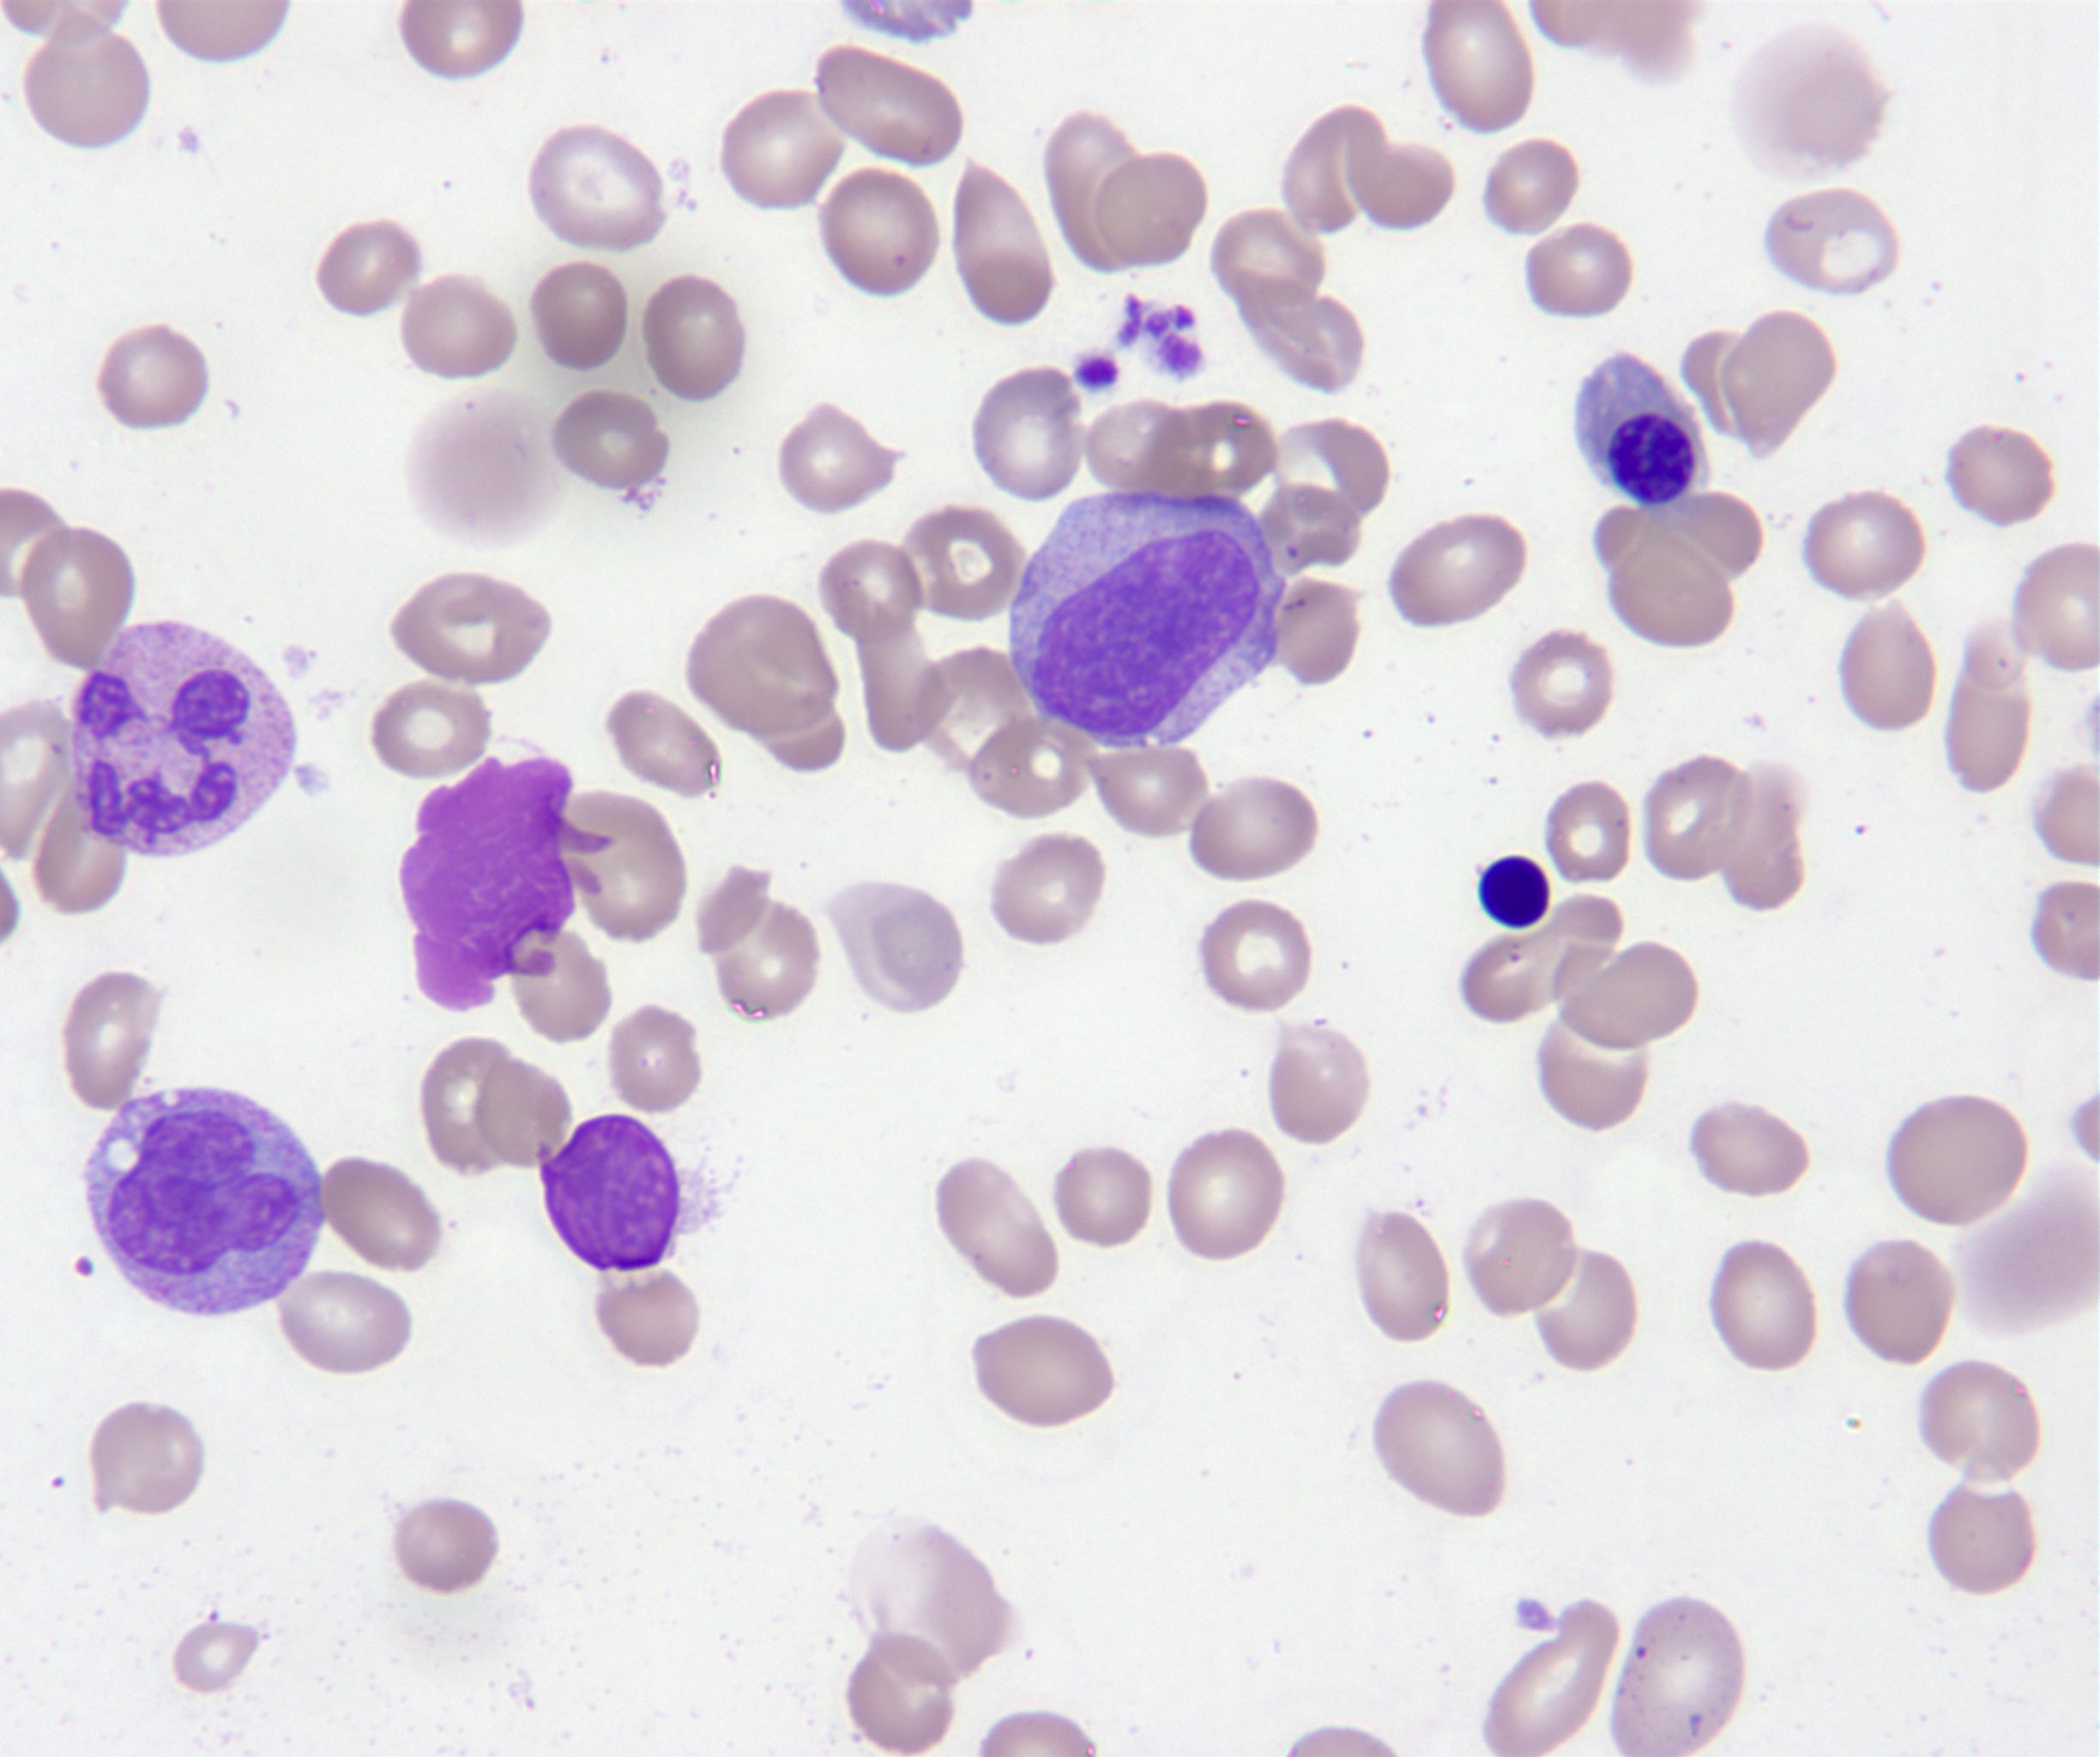2: (1012, 492, 1282, 750)
24: (1577, 354, 1713, 513)
42: (85, 1089, 323, 1316)
6: (73, 621, 295, 857)
x: (398, 754, 614, 1012), (537, 1113, 682, 1272), (1481, 853, 1551, 923)
